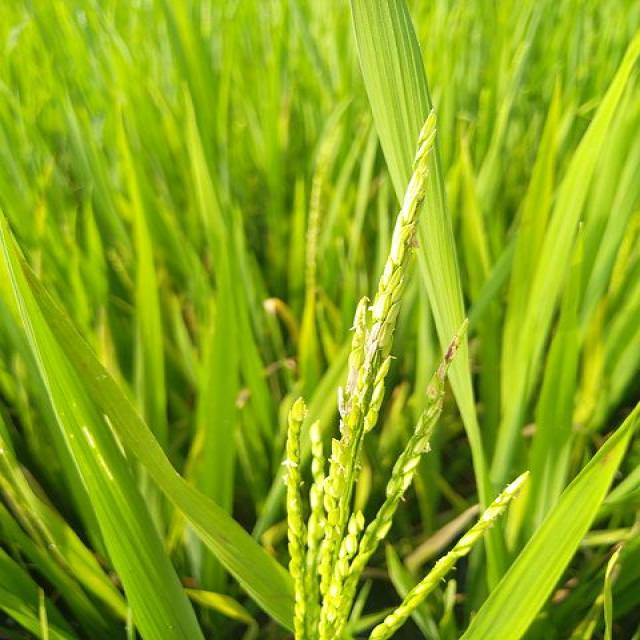Panicle Blight: (364, 293, 391, 368), (427, 335, 457, 398), (340, 354, 356, 415)
